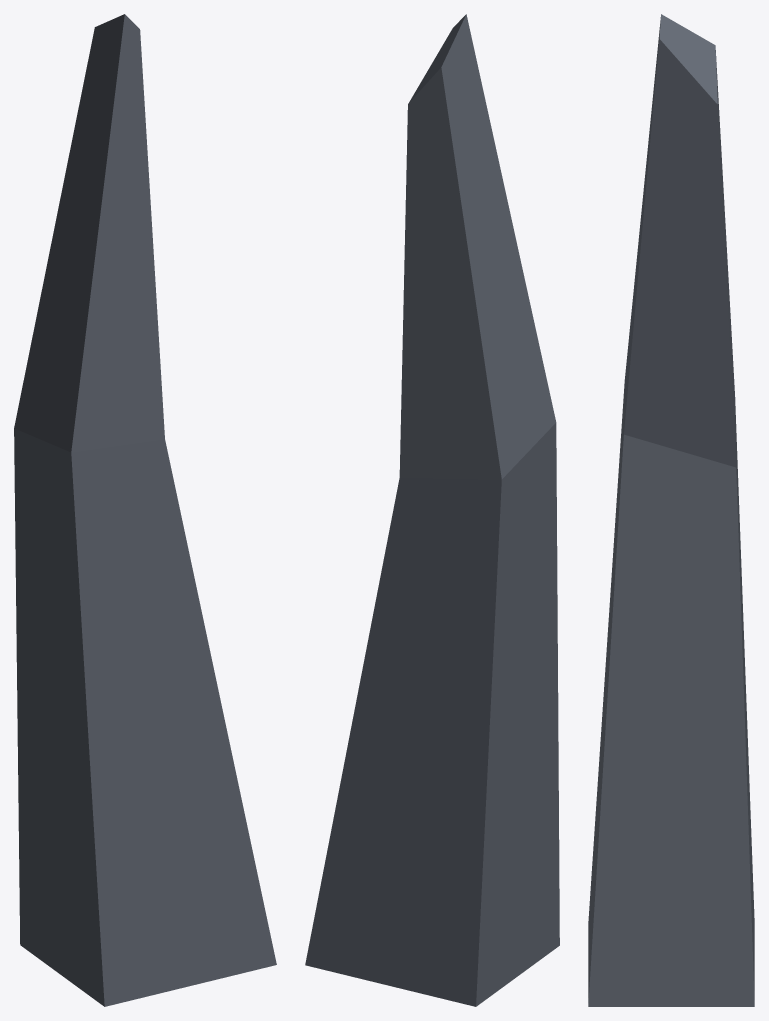
Rendered from Rock_Sharp_s_09.fbx.
3 views of the same model, side by side, from view 1: azimuth 30°, elevation 25°; view 2: azimuth 150°, elevation 25°; view 3: azimuth 270°, elevation 25° (orthographic).
Visible parts, largest first — view 1: Rock_Sharp_s_09; view 2: Rock_Sharp_s_09; view 3: Rock_Sharp_s_09.
Part boxes in pixels (bbox=[...]): Rock_Sharp_s_09: bbox=[14, 14, 276, 1006]; Rock_Sharp_s_09: bbox=[305, 14, 559, 1006]; Rock_Sharp_s_09: bbox=[588, 14, 754, 1006].
Size of the model in its own units: 14.83 by 71.65 by 11.53.
